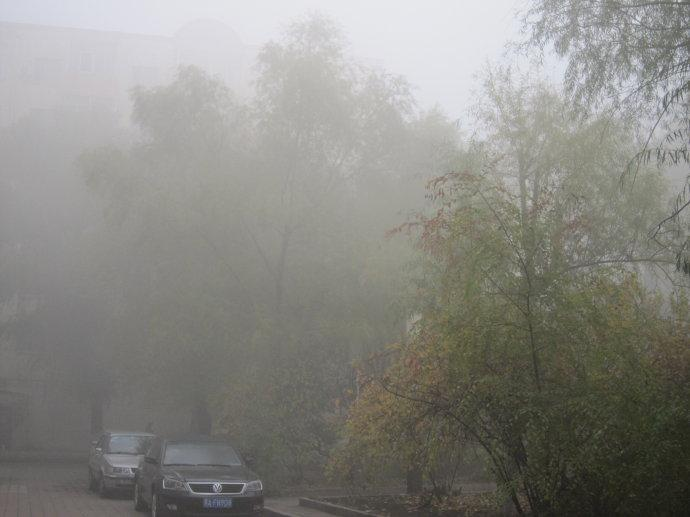car: (130, 434, 265, 517), (86, 431, 165, 496)
